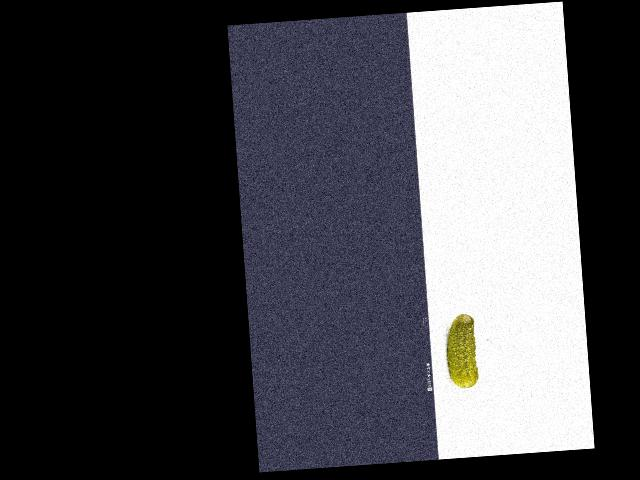cucumber: (443, 312, 479, 389)
